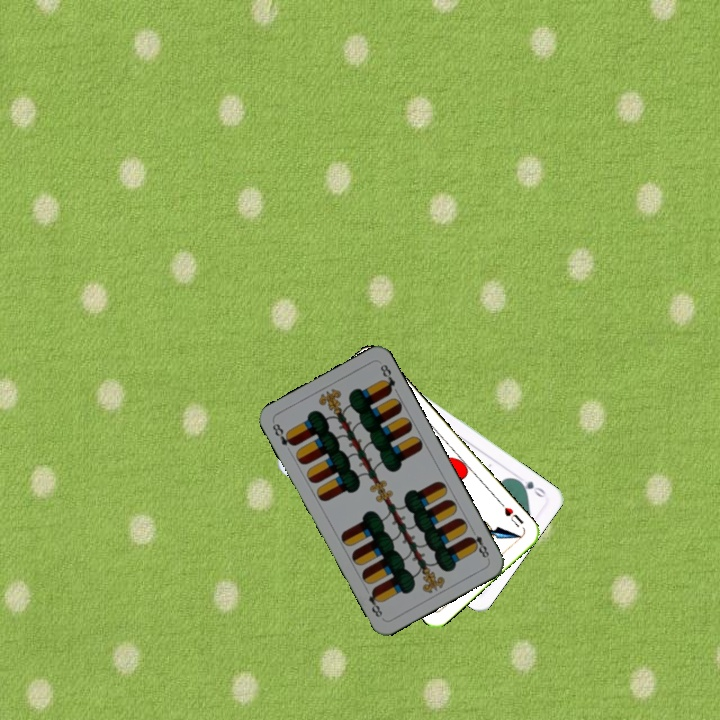E8: (465, 524, 492, 562), (268, 419, 297, 449)
GO: (511, 475, 549, 500)
HU: (500, 503, 526, 530)
